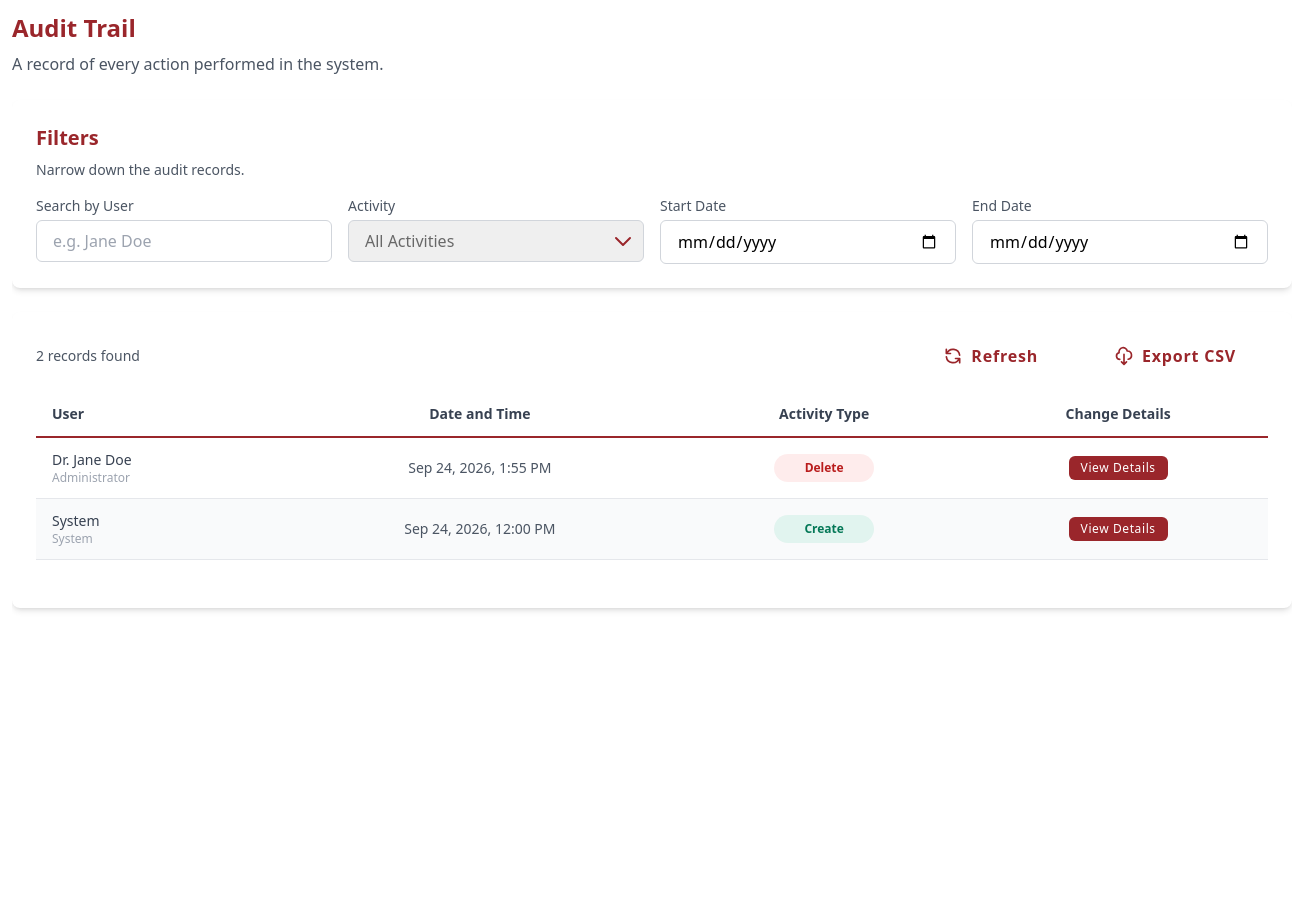
Test: audit trail › server-side filters and export › exports every page of the filtered records, not only the rows shown
Later steps or results of the test are not shown.
Select "Delete" in the dropdown labelled "Activity" at point(496, 241), box [348,220,644,262]
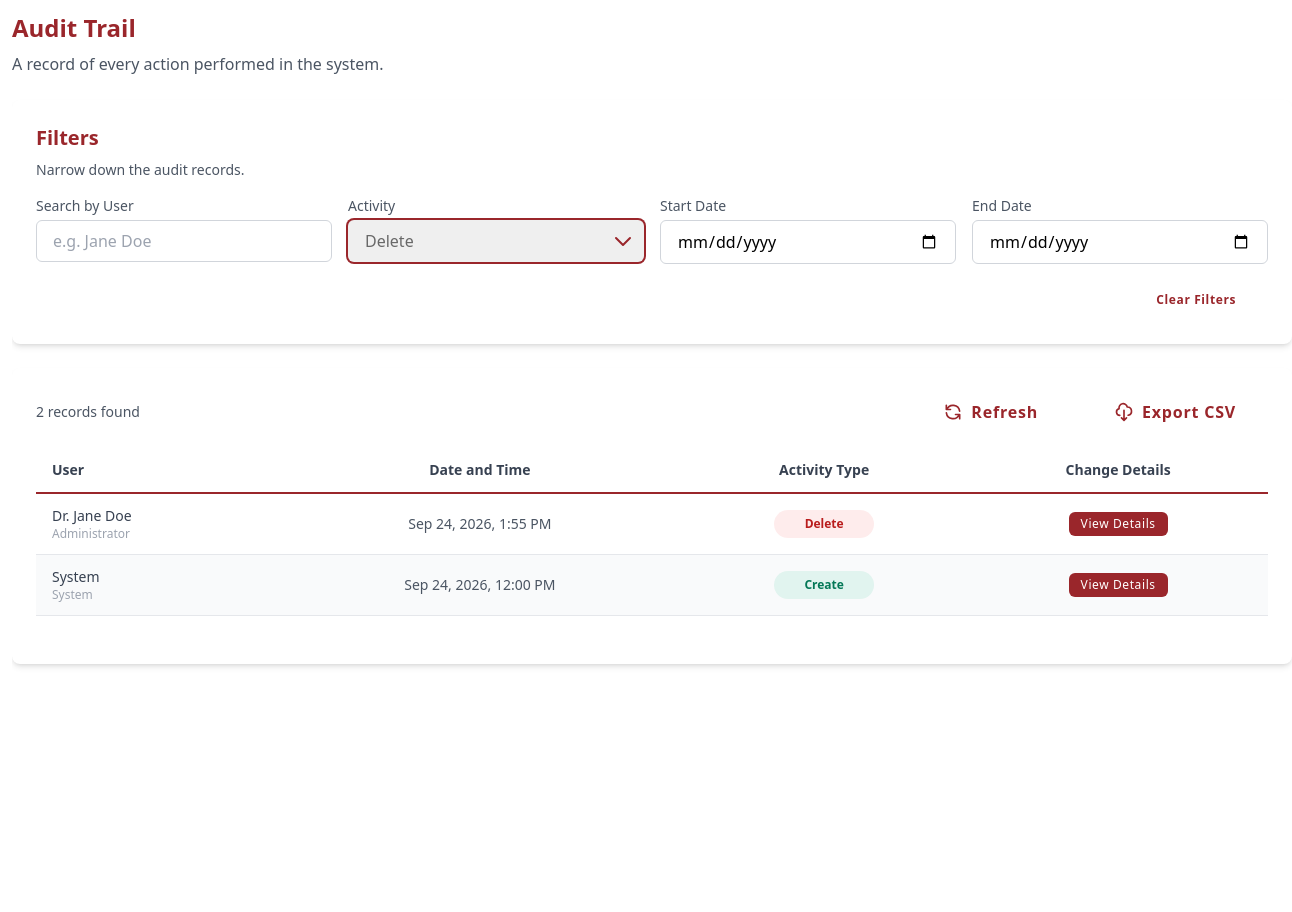
Click the button "Export CSV".
click(1175, 412)  # box [1082,392,1268,432]
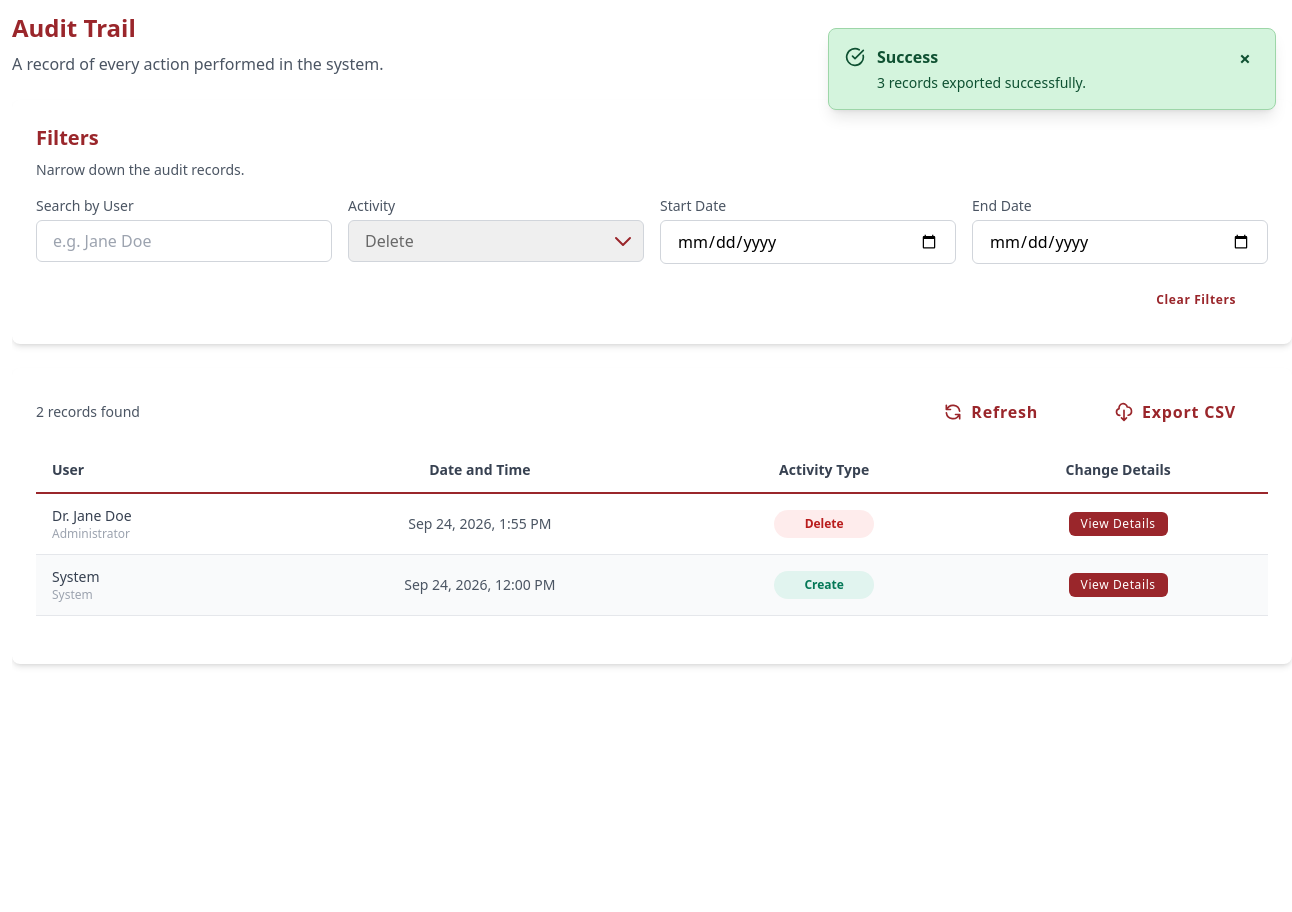
Expected: the text "3 records exported successfully." is shown, [877,73,1086,92]
